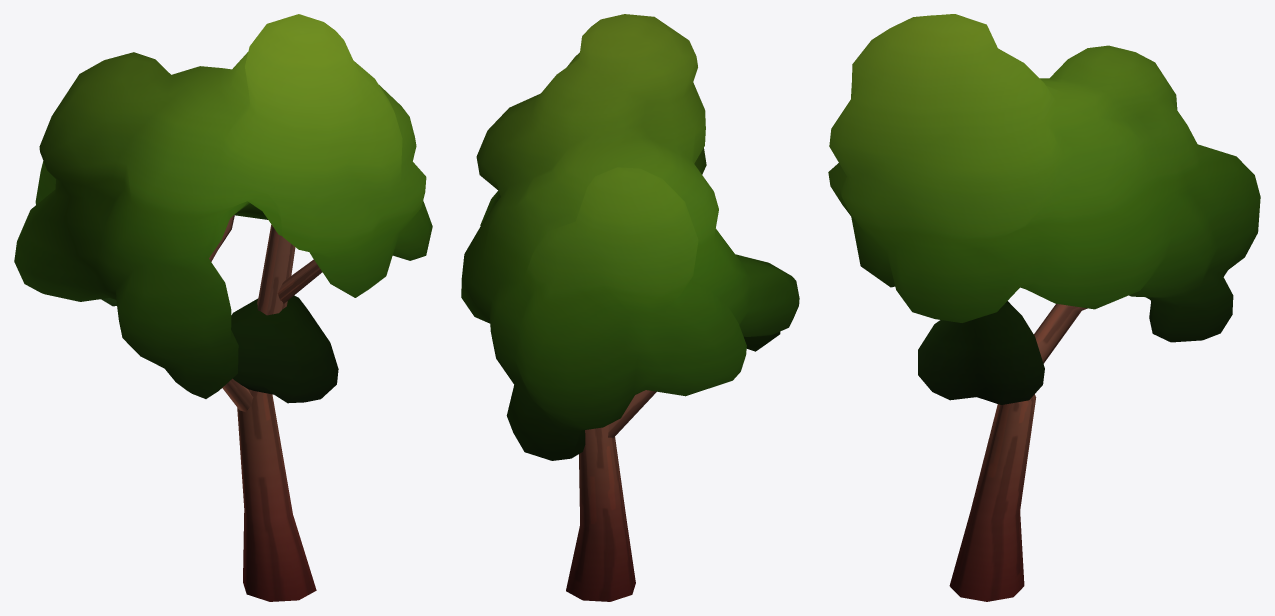
Rendered from SM_Tree_01.fbx.
The picture shows the model from 3 angles, left to right: view 1: azimuth 30°, elevation 25°; view 2: azimuth 150°, elevation 25°; view 3: azimuth 270°, elevation 25°; orthographic projection. The views are drawn at different scales.
Visible parts, largest first — view 1: SM_Tree_01; view 2: SM_Tree_01; view 3: SM_Tree_01.
Part boxes in pixels (x1,y1,x2,y2): SM_Tree_01: (14, 14, 432, 601); SM_Tree_01: (461, 14, 799, 601); SM_Tree_01: (828, 14, 1260, 601).
Bounding box in the file's own units: 3.28 × 5.52 × 3.82.
